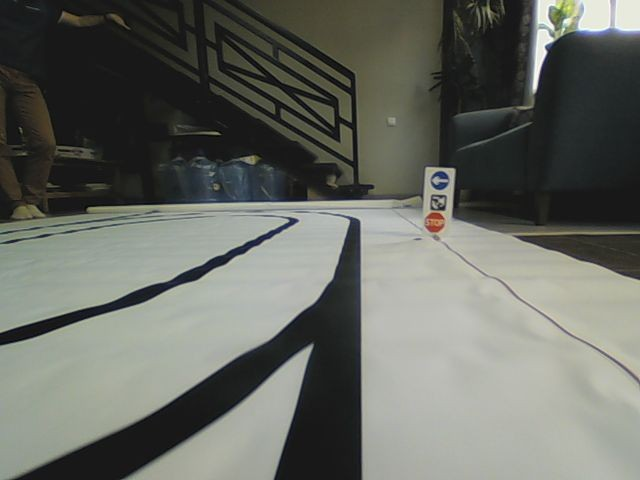Stop: (424, 212, 445, 234)
